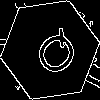Q: (25, 25, 83, 86)
